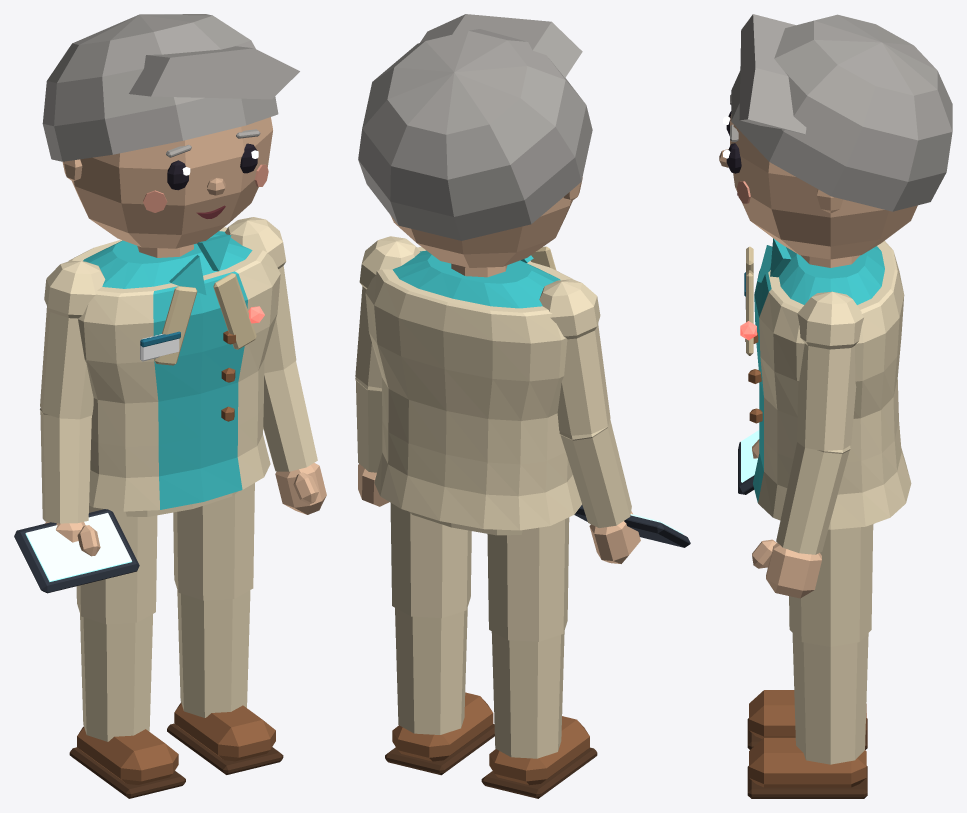
File: man_pel.glb
3 renders of one model, left to right at view 1: azimuth 30°, elevation 25°; view 2: azimuth 150°, elevation 25°; view 3: azimuth 270°, elevation 25°, orthographic.
Parts seen in each view (by area): view 1: jacke, haare, bein_l, kopf, bein_r, arm_r, arm_l, gegenstand_terminal, schuh_l, schuh_r, torso, revers (+6 smaller); view 2: jacke, haare, bein_r, bein_l, arm_r, arm_l, torso, kopf, schuh_r, schuh_l, hand_r, gegenstand_terminal (+1 smaller); view 3: haare, jacke, bein_l, arm_l, kopf, schuh_l, torso, hand_l, schuh_r, gesicht, gegenstand_terminal, kragen (+2 smaller).
Part boxes in pixels (left/top/right/bottom): jacke: left=68, top=227, right=280, bottom=511; haare: left=42, top=14, right=299, bottom=161; bein_l: left=173, top=483, right=254, bottom=717; kopf: left=62, top=117, right=272, bottom=248; bein_r: left=76, top=505, right=157, bottom=741; arm_r: left=40, top=261, right=105, bottom=523; arm_l: left=225, top=217, right=317, bottom=471; gegenstand_terminal: left=14, top=509, right=139, bottom=593; schuh_l: left=167, top=702, right=283, bottom=774; schuh_r: left=69, top=726, right=185, bottom=798; torso: left=83, top=231, right=252, bottom=288; revers: left=154, top=273, right=256, bottom=365; jacke: left=365, top=247, right=581, bottom=530; haare: left=358, top=14, right=592, bottom=240; bein_r: left=487, top=517, right=569, bottom=758; bein_l: left=390, top=503, right=471, bottom=734; arm_r: left=539, top=279, right=631, bottom=527; arm_l: left=355, top=236, right=420, bottom=472; torso: left=392, top=250, right=560, bottom=308; kopf: left=390, top=177, right=582, bottom=267; schuh_r: left=481, top=716, right=597, bottom=798; schuh_l: left=385, top=692, right=494, bottom=775; hand_r: left=589, top=511, right=640, bottom=563; gegenstand_terminal: left=574, top=504, right=690, bottom=547; haare: left=731, top=14, right=952, bottom=211; jacke: left=753, top=240, right=911, bottom=529; bein_l: left=789, top=525, right=873, bottom=764; arm_l: left=776, top=291, right=864, bottom=554; kopf: left=730, top=114, right=917, bottom=259; schuh_l: left=747, top=737, right=867, bottom=798; torso: left=779, top=246, right=884, bottom=304; hand_l: left=752, top=539, right=821, bottom=598; schuh_r: left=747, top=690, right=867, bottom=749; gesicht: left=719, top=94, right=750, bottom=203; gegenstand_terminal: left=738, top=430, right=759, bottom=494; kragen: left=757, top=238, right=791, bottom=282.
Size of the model in its own units: 0.012 by 0.0276 by 0.00798.
